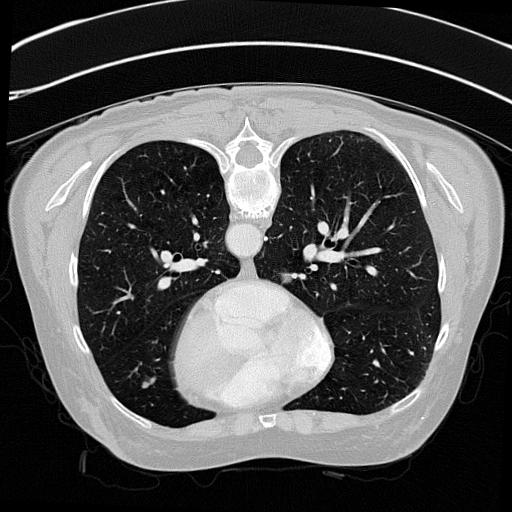nodule: (141, 378, 155, 392)
